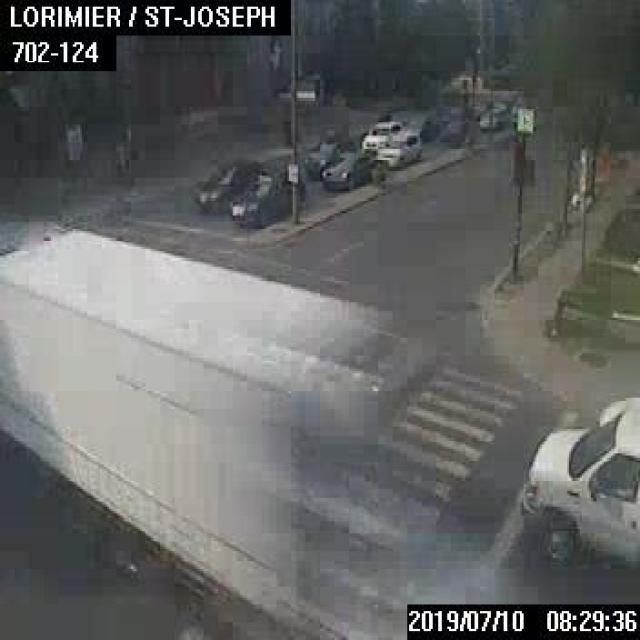vehicle: (0, 229, 387, 638), (518, 394, 638, 571), (229, 171, 303, 227), (193, 158, 260, 211), (321, 149, 374, 190), (304, 136, 354, 174), (375, 132, 420, 168), (360, 120, 401, 150), (478, 107, 506, 128)
